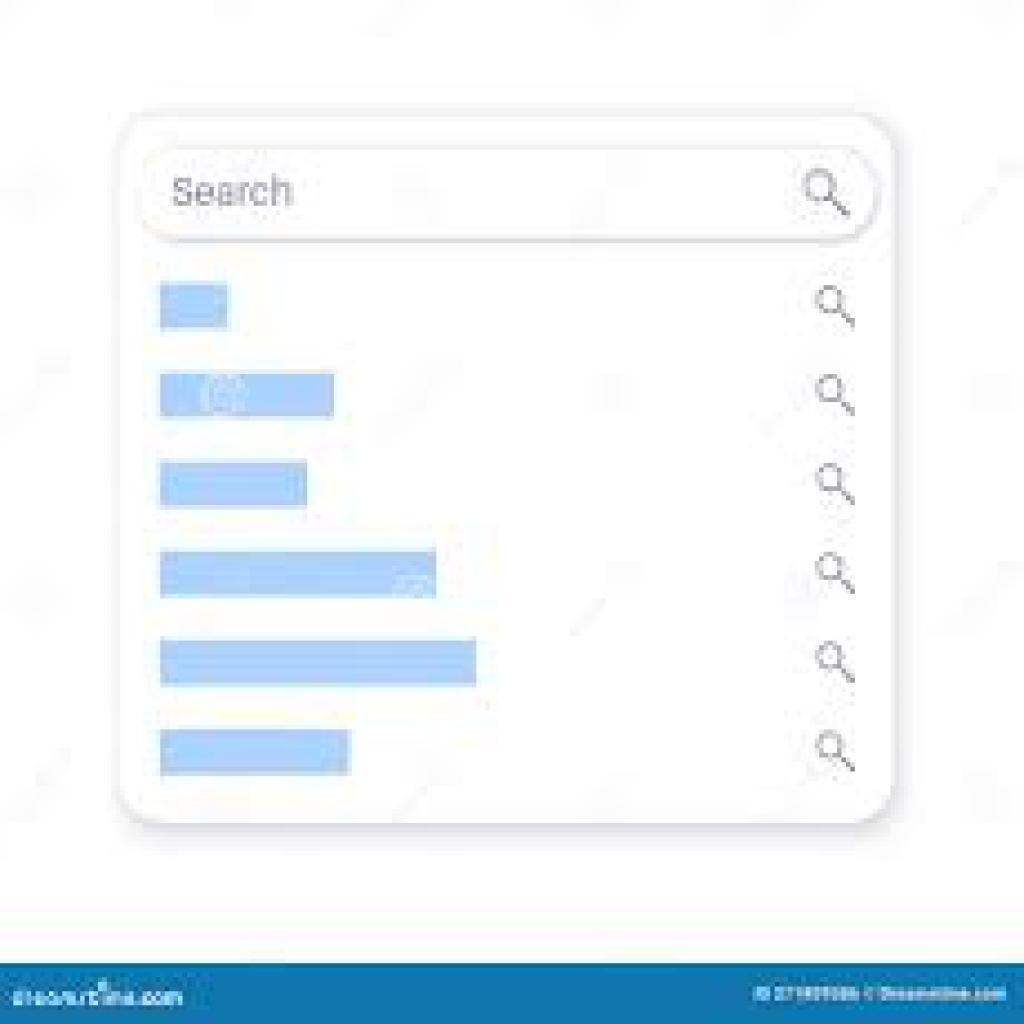icon: (796, 164, 860, 229), (811, 283, 863, 338), (809, 457, 857, 511), (812, 551, 859, 601), (814, 372, 860, 423), (813, 641, 858, 692), (815, 728, 860, 778)
input: (148, 151, 878, 237)
